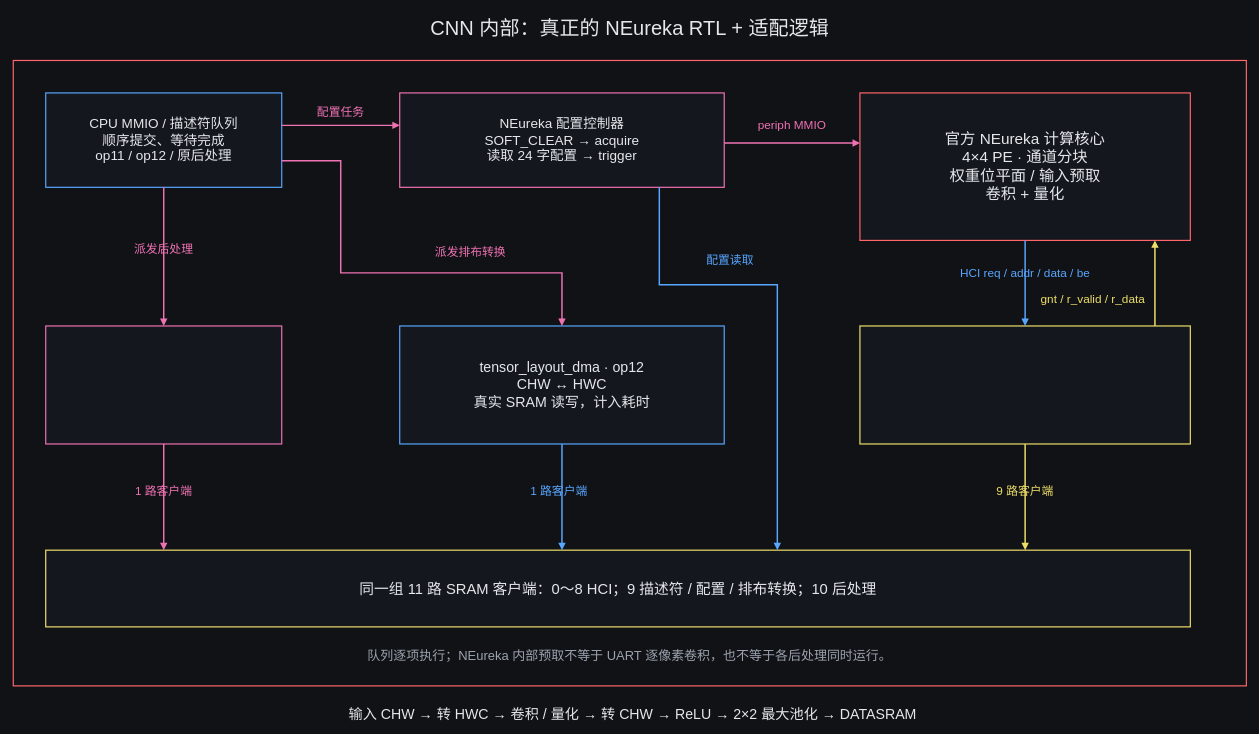
Image size: 1259x734. Some labels were removed from this diagram. Here are the shapes that lost their labels. From the top down, the centre of each, then its label:
At point (163, 384): "原后处理算子 本次：ReLU + MaxPool 使用原有 CHW 排布".
At point (1025, 384): "HCI → SRAM 桥接器 288 bit 拆为 9×32 bit 请求 收齐后 grant，下一拍返回".
